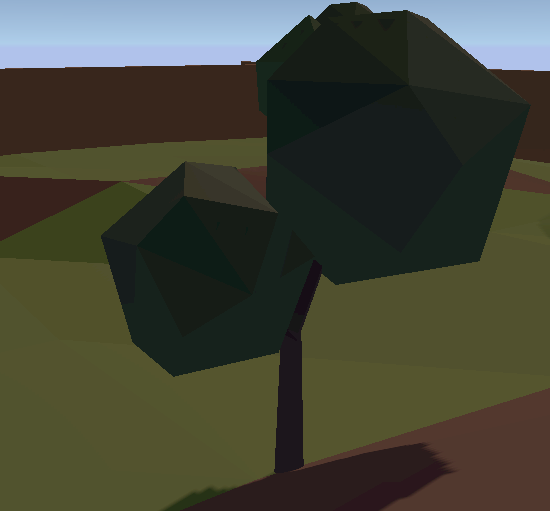tree: (98, 8, 532, 445)
